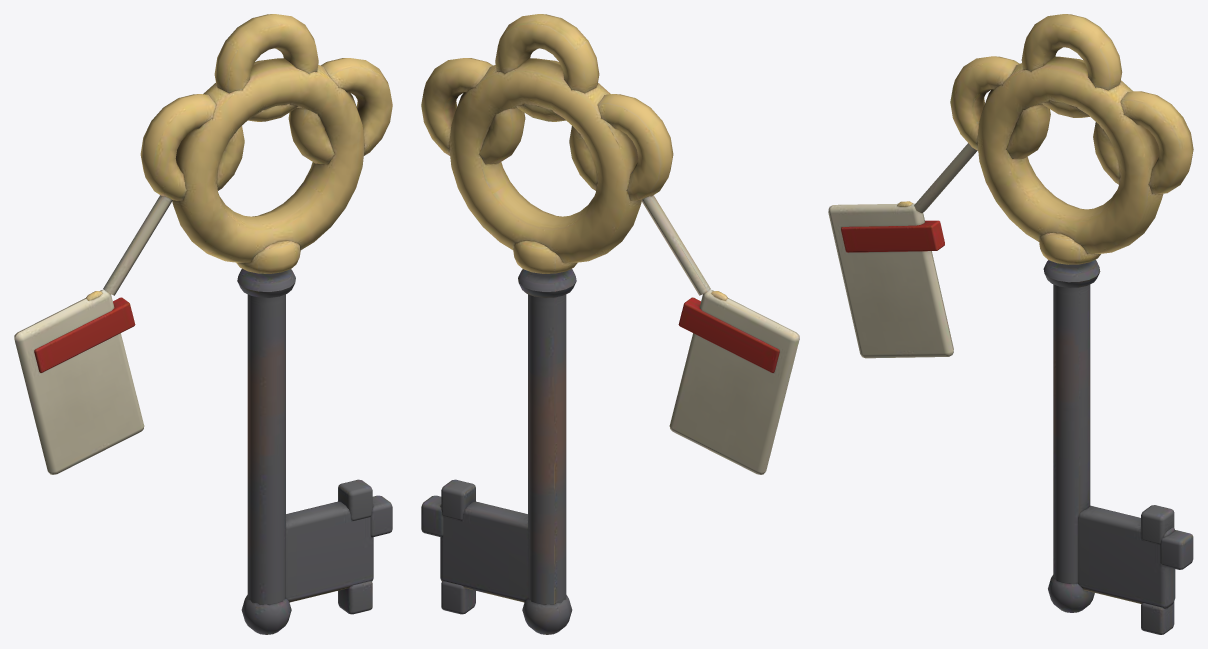
File: gate_key.glb
The picture shows the model from 3 angles, left to right: view 1: azimuth 30°, elevation 25°; view 2: azimuth 150°, elevation 25°; view 3: azimuth 330°, elevation 25°; orthographic projection. The views are drawn at different scales.
Visible parts, largest first — view 1: GateKey; view 2: GateKey; view 3: GateKey.
Boxes of the visible parts, x1,y1,x2,y2 form: GateKey: (14,14,392,634); GateKey: (421,14,799,634); GateKey: (828,14,1193,634).
Size of the model in its own units: 0.3812 by 0.5972 by 0.06.
Materials: 5 (5 with a texture image).
